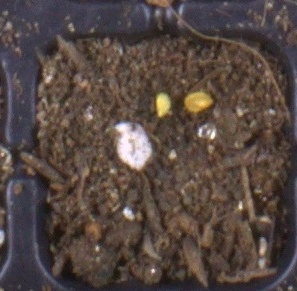chilli seed: (183, 91, 214, 113), (154, 91, 172, 119)
